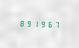eight: (17, 19, 23, 27)
nine: (39, 19, 45, 28), (24, 19, 30, 27)
one: (32, 19, 38, 27)
seven: (53, 20, 59, 28)
six: (46, 20, 52, 28)
